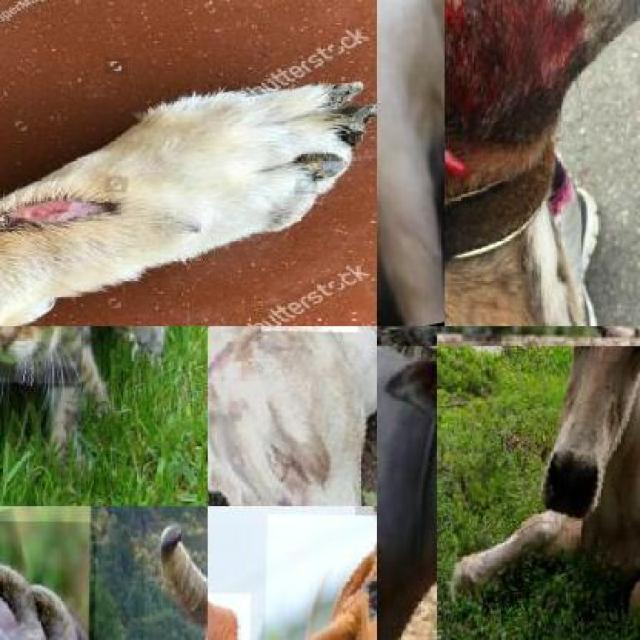buffalo: (377, 346, 437, 640), (0, 515, 95, 639)
cat: (377, 0, 445, 326)
cow: (455, 346, 640, 640), (208, 326, 377, 506), (258, 512, 377, 640), (135, 520, 208, 640)
dog: (0, 69, 308, 326), (444, 0, 640, 326)
injured: (444, 0, 570, 265), (0, 182, 165, 268)
